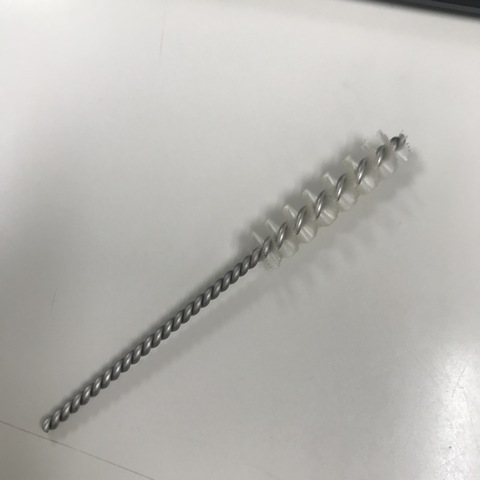Twist Brush-B: (35, 135, 424, 432)
